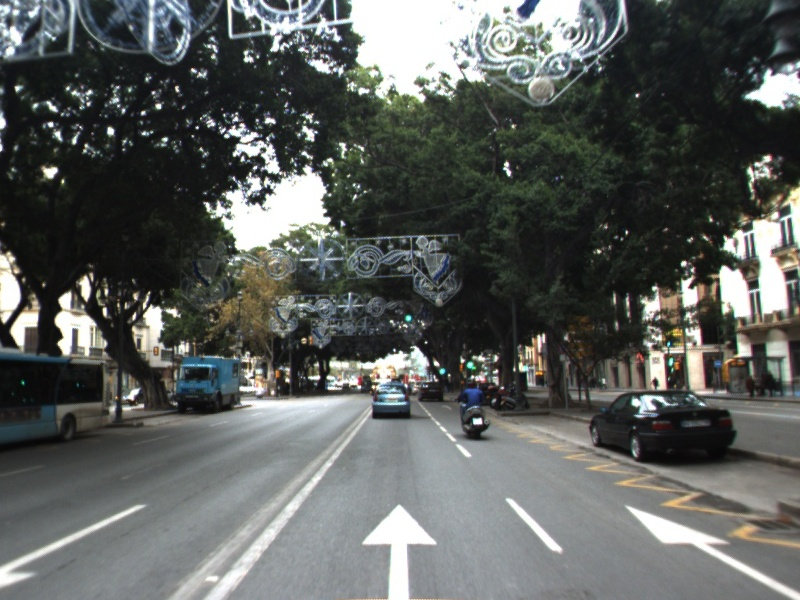STRAIGHT: (619, 500, 800, 600), (358, 498, 441, 600), (440, 403, 453, 411)
